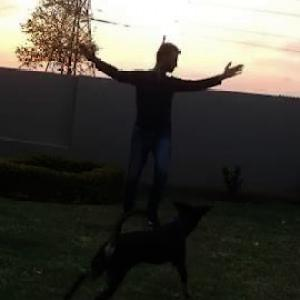takeoff: (80, 23, 259, 224)
